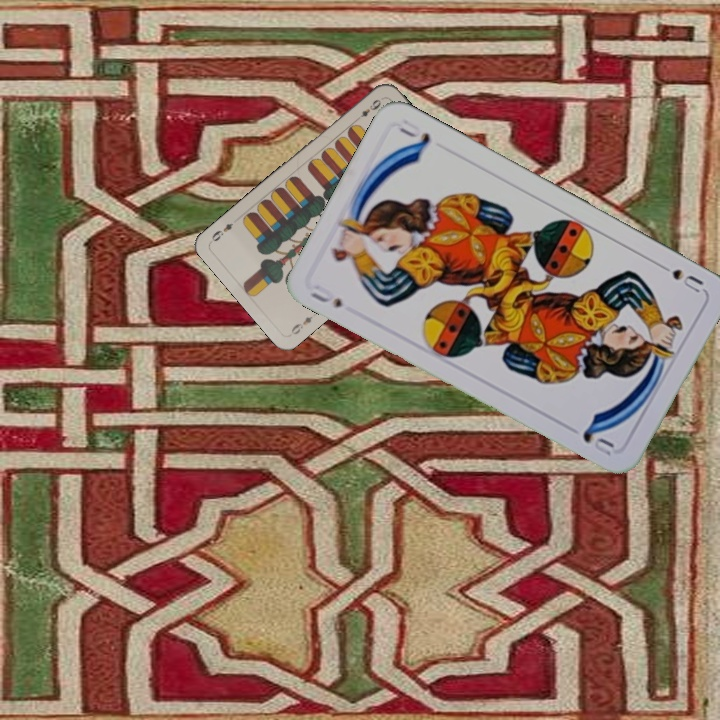E9: (287, 312, 315, 337), (357, 95, 384, 120)
SU: (652, 258, 706, 296), (306, 280, 345, 310)
